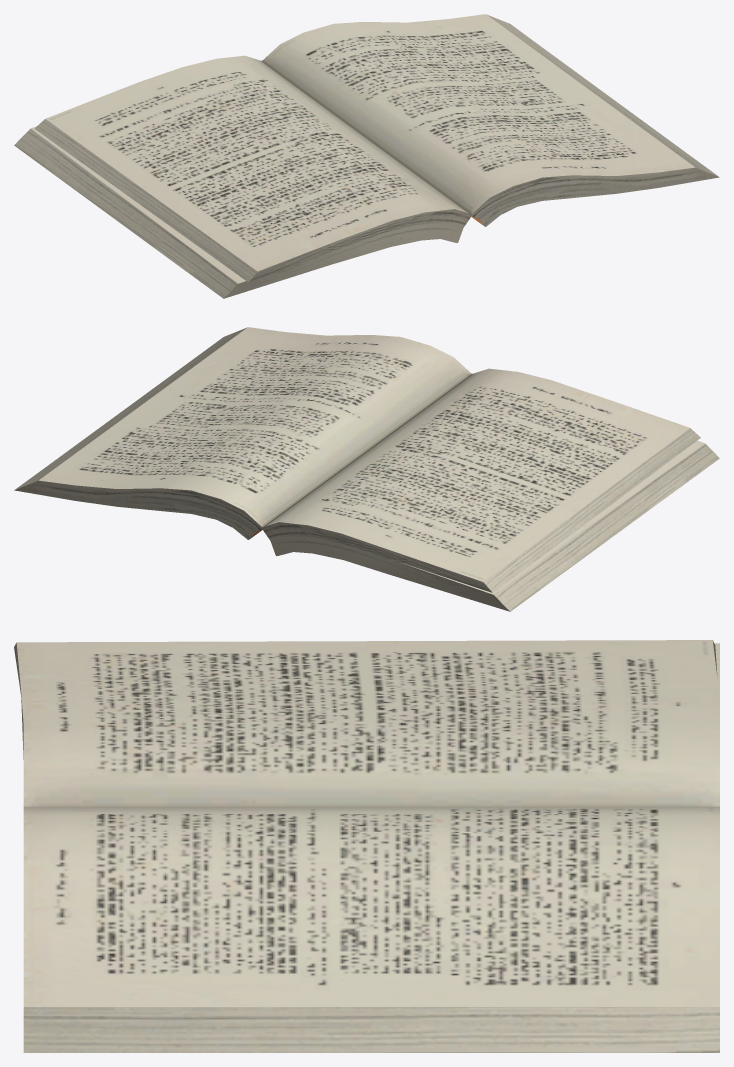
File: book_unnamed02_open.dae
The picture shows the model from 3 angles, top to bottom: view 1: azimuth 30°, elevation 25°; view 2: azimuth 150°, elevation 25°; view 3: azimuth 270°, elevation 25°; orthographic projection. The views are drawn at different scales.
Visible parts, largest first — view 1: book2_open; view 2: book2_open; view 3: book2_open.
Part boxes in pixels (bbox=[...]): book2_open: bbox=[14, 14, 719, 298]; book2_open: bbox=[14, 327, 719, 611]; book2_open: bbox=[14, 640, 719, 1052].
Bounding box in the file's own units: 32.32 × 2.8 × 23.99.
